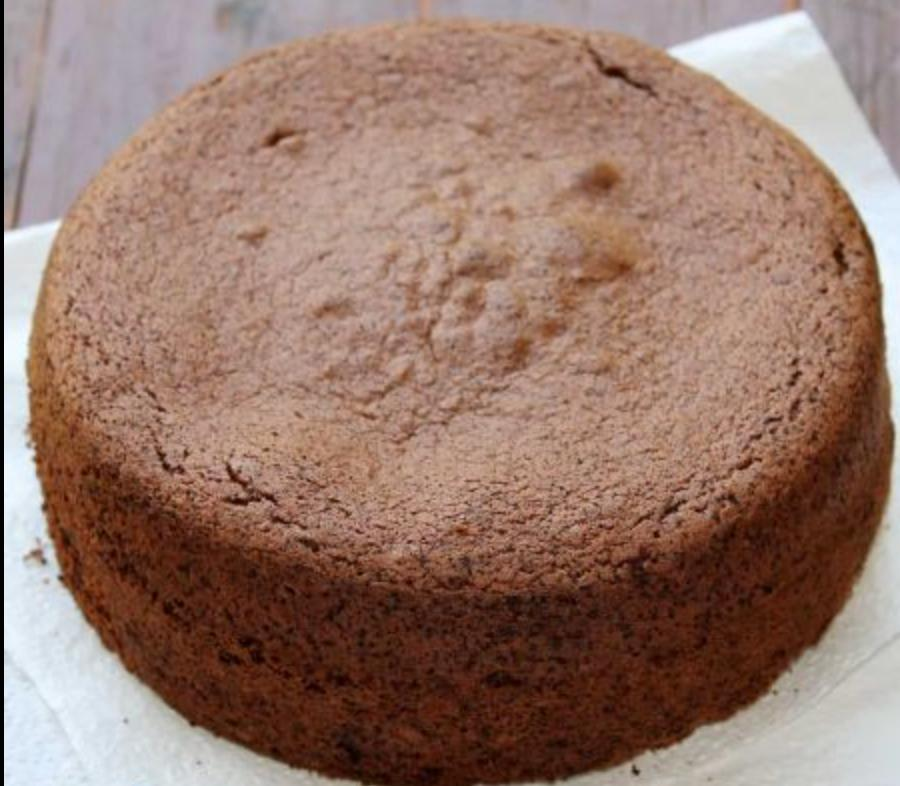Chocolate Cake: (38, 19, 890, 786)
